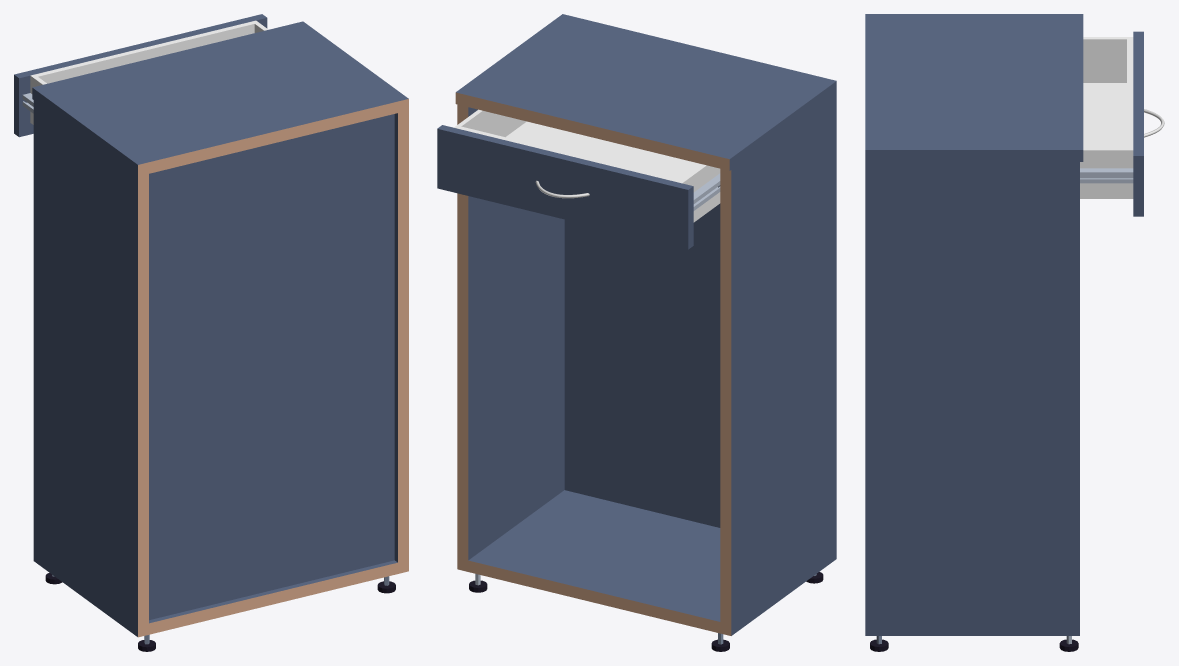
Rendered from Mueble aula.fbx.
The picture shows the model from 3 angles, left to right: view 1: azimuth 30°, elevation 25°; view 2: azimuth 150°, elevation 25°; view 3: azimuth 270°, elevation 25°; orthographic projection. The views are drawn at different scales.
Visible parts, largest first — view 1: Mueble Exterior, Cajon; view 2: Mueble Exterior, Cajon; view 3: Mueble Exterior, Cajon.
Part boxes in pixels (bbox=[...]): Mueble Exterior: bbox=[32, 21, 408, 651]; Cajon: bbox=[14, 14, 268, 137]; Mueble Exterior: bbox=[455, 14, 836, 651]; Cajon: bbox=[437, 109, 720, 249]; Mueble Exterior: bbox=[865, 14, 1083, 651]; Cajon: bbox=[1080, 31, 1143, 216].
Size of the model in its own units: 60 by 104 by 55.78.
